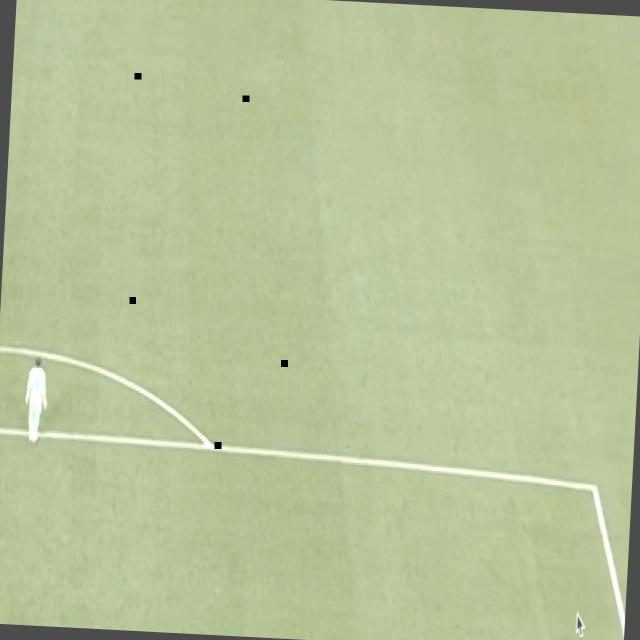player-white: (19, 351, 52, 449)
